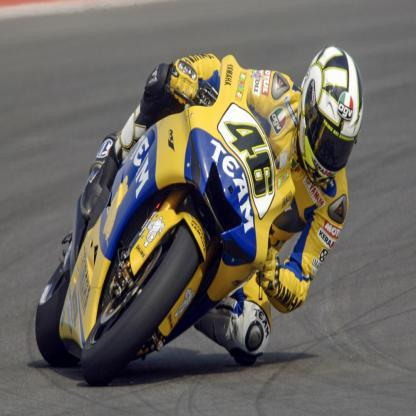helmet: (297, 45, 364, 185)
